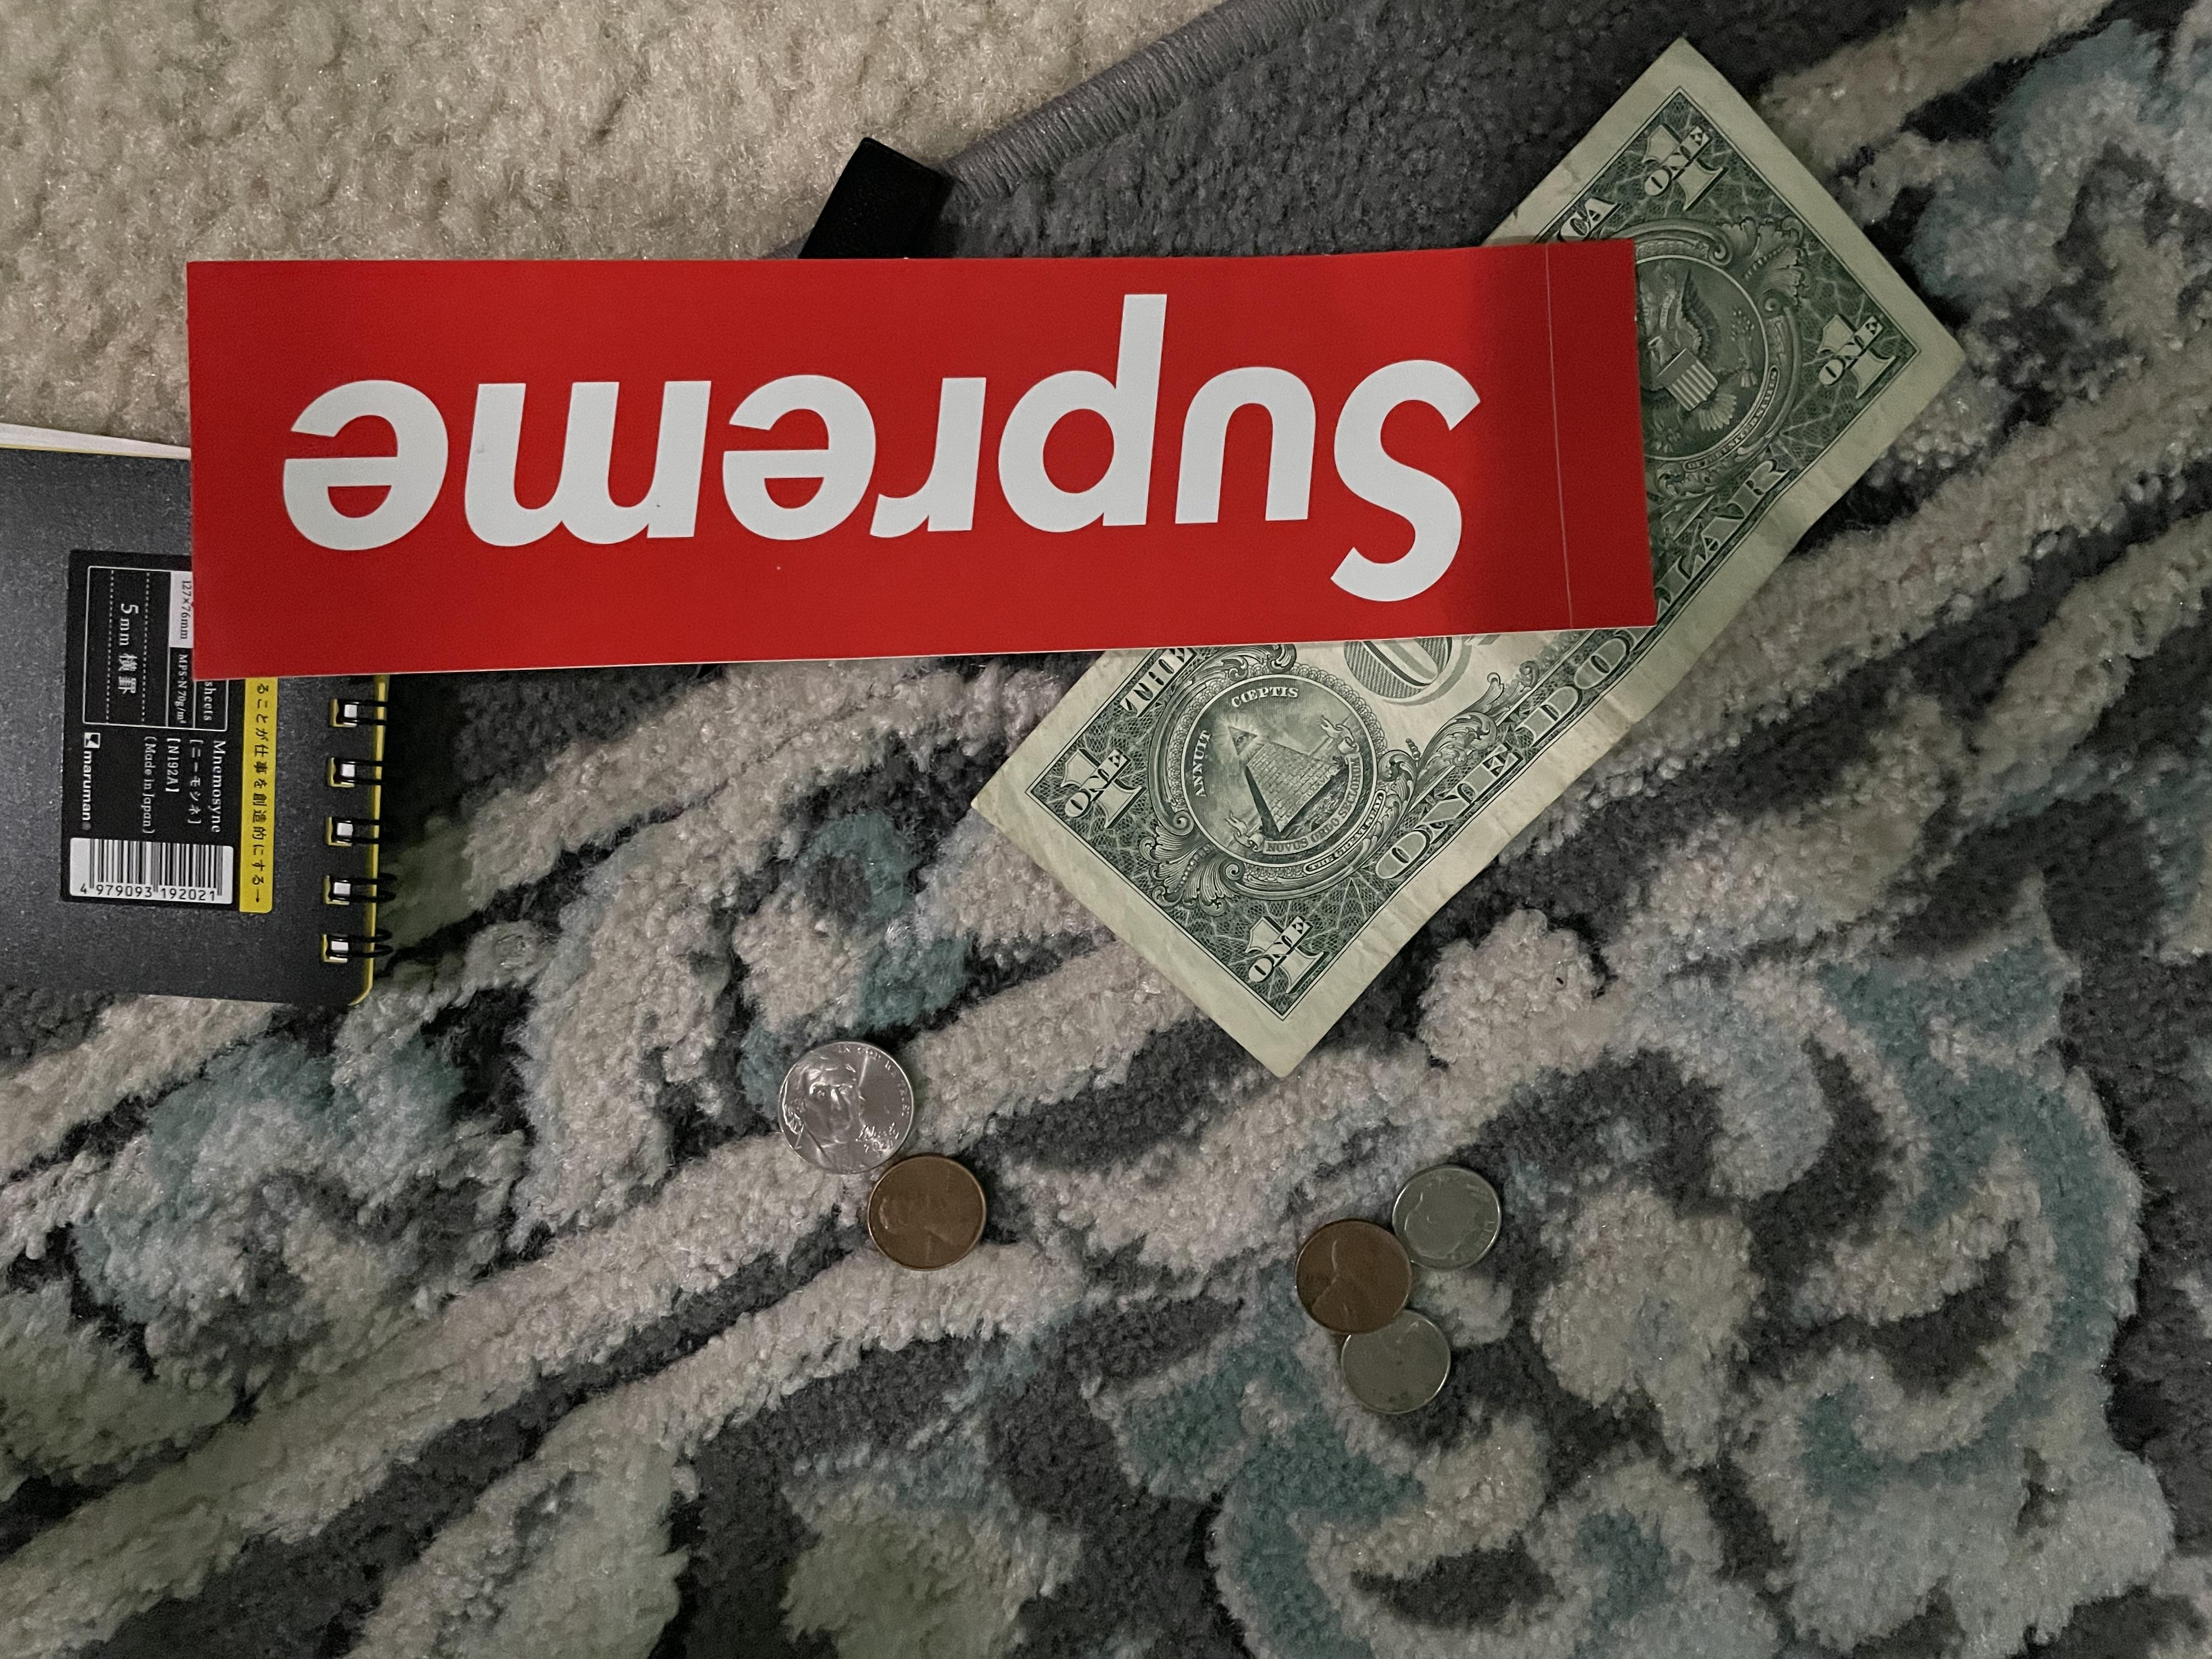Dime: (1345, 1310, 1453, 1427), (1388, 1169, 1505, 1276)
Nickel: (766, 1037, 918, 1175)
OneBill: (961, 26, 1970, 1080)
Penny: (864, 1150, 996, 1281), (1285, 1223, 1426, 1345)
